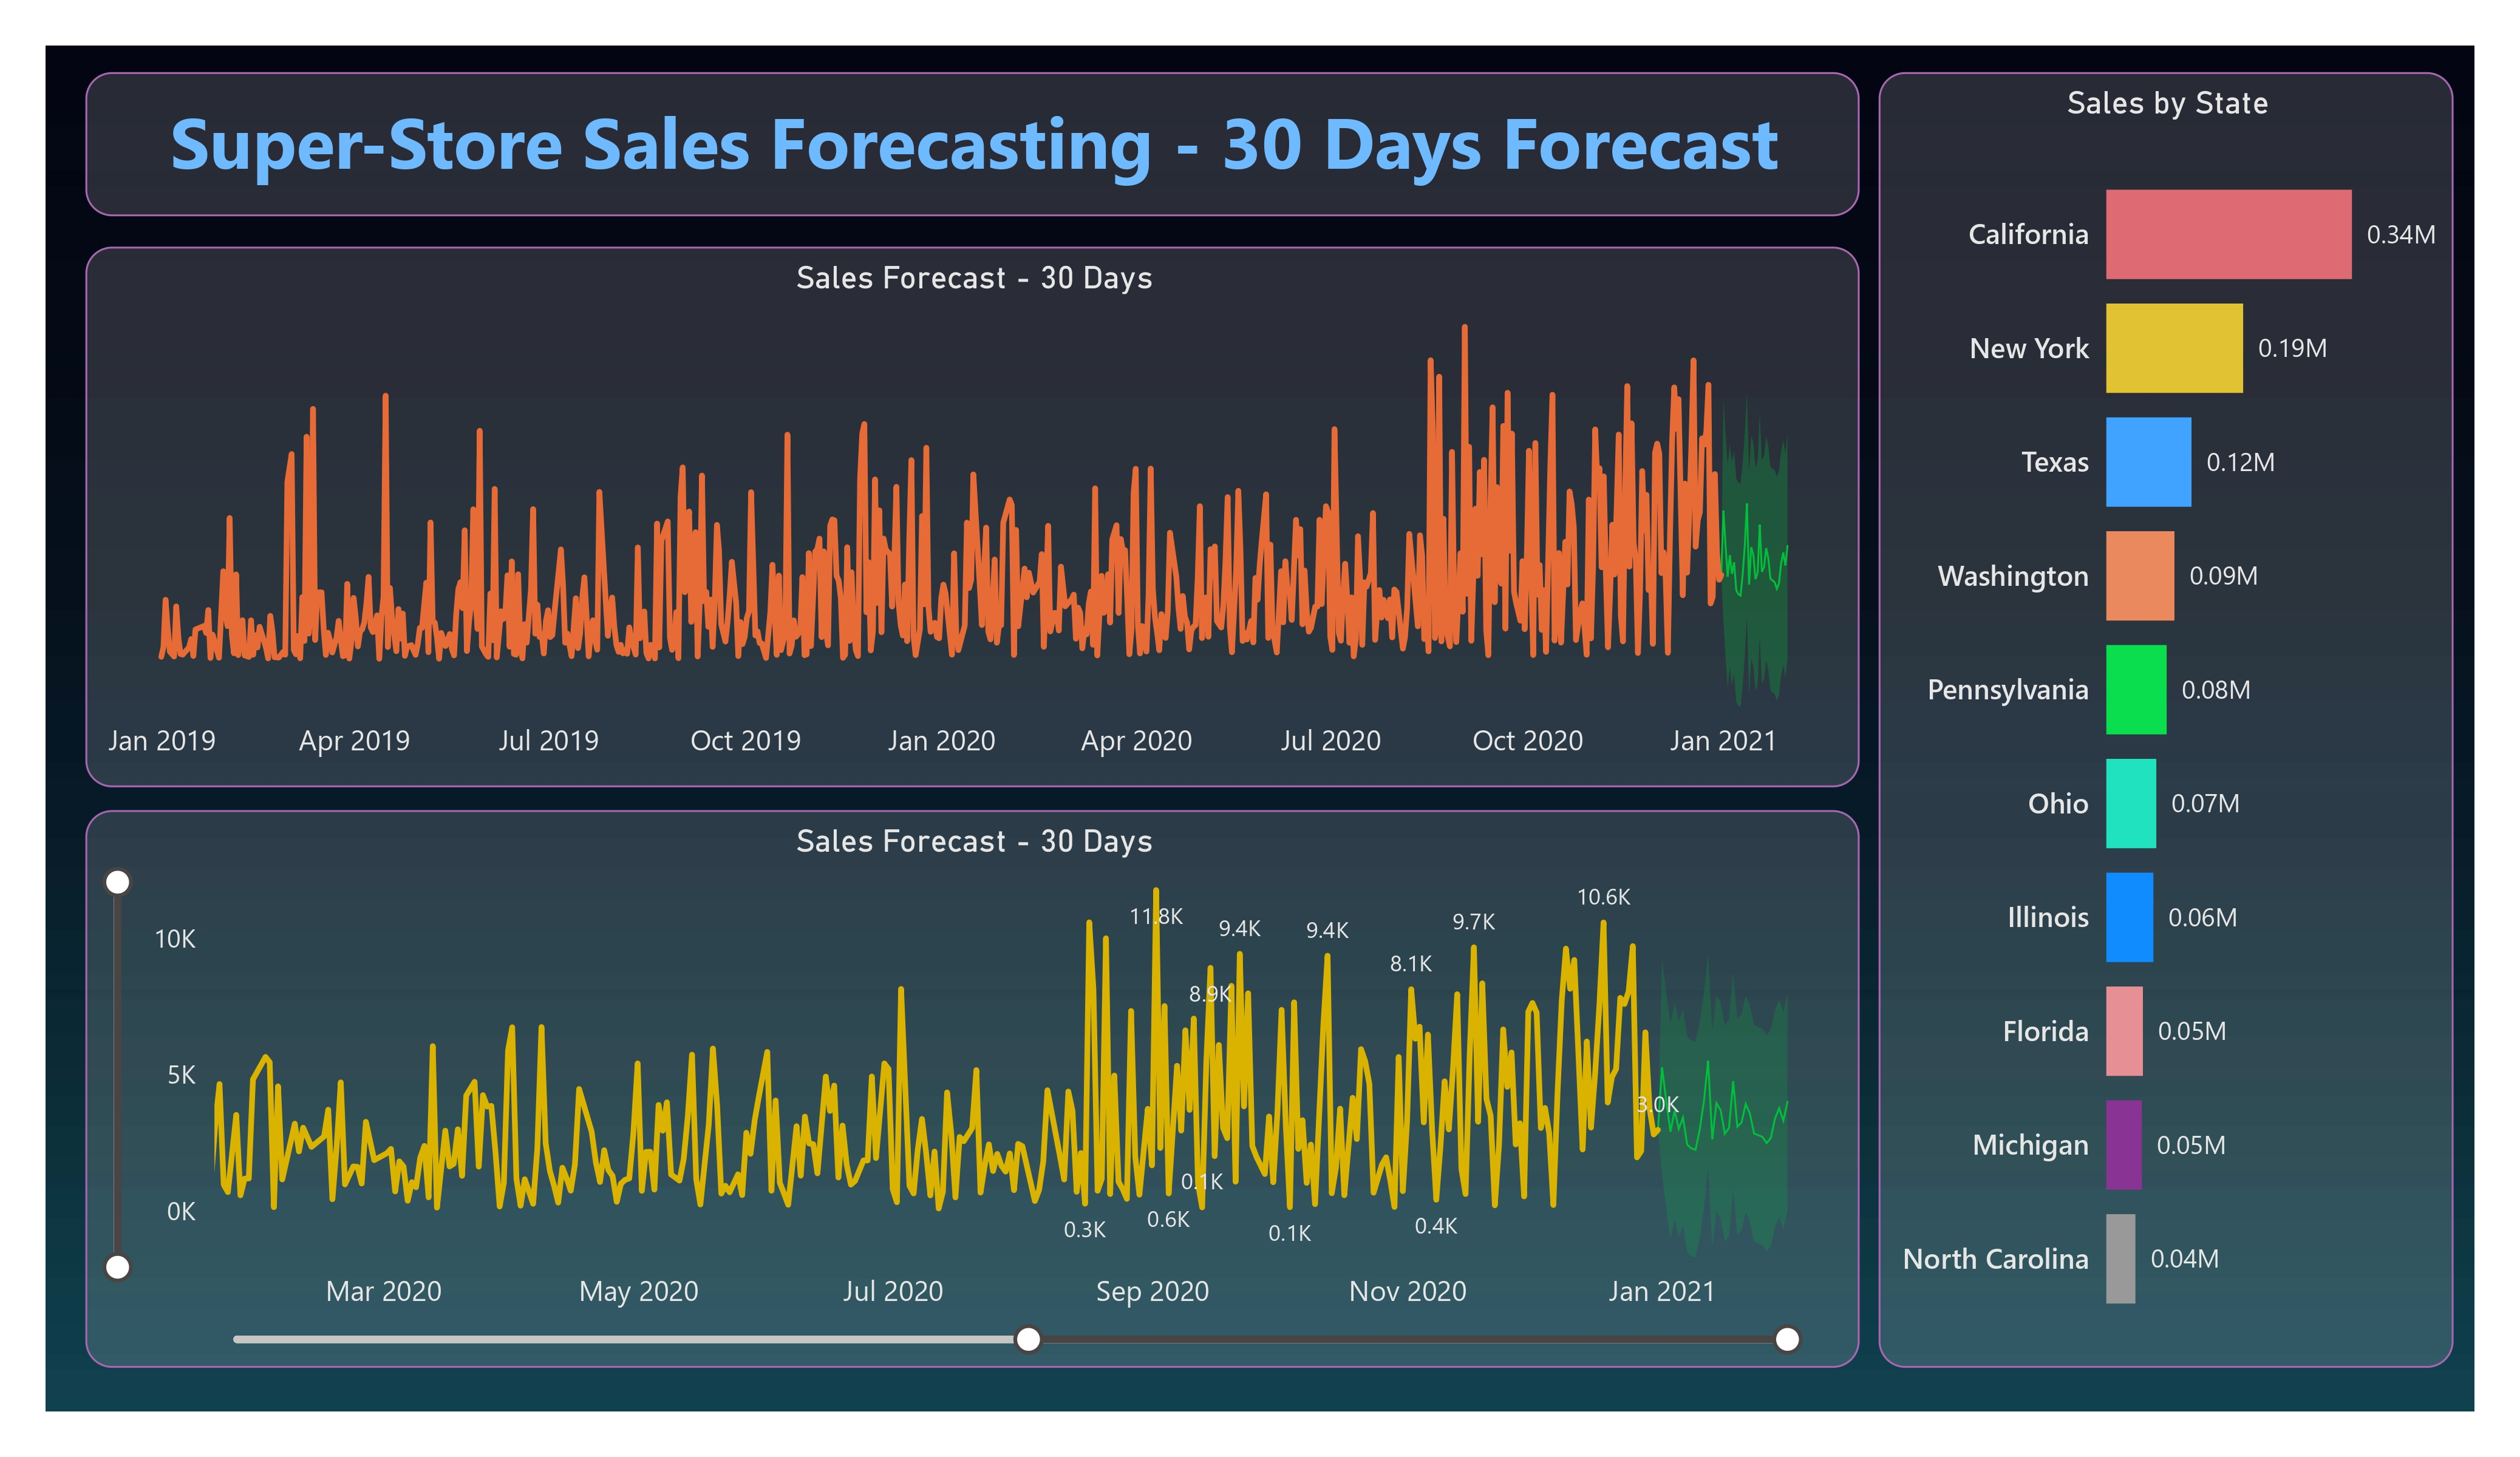

This screenshot's page, from the dashboard's own definition file:
{"tool":"powerbi","page":{"name":"Sales Forecast","canvas":[1280,720],"ordinal":1},"visuals":[{"type":"lineChart","title":"Sales Forecast - 30 Days","fields":{"Y":["Sum(SuperStore_Sales_Dataset.Sales)"],"Category":["SuperStore_Sales_Dataset.Order Date"]},"box":[21.4,105.7,934.3,285.7],"z":0},{"type":"lineChart","title":"Sales Forecast - 30 Days","fields":{"Y":["Sum(SuperStore_Sales_Dataset.Sales)"],"Category":["SuperStore_Sales_Dataset.Order Date"]},"box":[21.4,402.9,934.3,294.3],"z":1000},{"type":"barChart","title":"Sales by State","fields":{"Category":["SuperStore_Sales_Dataset.State"],"Y":["Sum(SuperStore_Sales_Dataset.Sales)"]},"box":[965.7,14.3,302.9,682.9],"z":2000},{"type":"textbox","box":[21.4,14.3,934.3,75.7],"z":3000}]}

Visuals, with their boxes on the page's 1280x720 design canvas (x1, y1, x2, y2). These are canvas units, not pixel positions in the 2520x1457 screenshot, which may show the page scaled, cropped or inside an application window:
"Sales Forecast - 30 Days" lineChart: bbox(21, 106, 956, 391)
"Sales Forecast - 30 Days" lineChart: bbox(21, 403, 956, 697)
"Sales by State" barChart: bbox(966, 14, 1269, 697)
textbox: bbox(21, 14, 956, 90)
